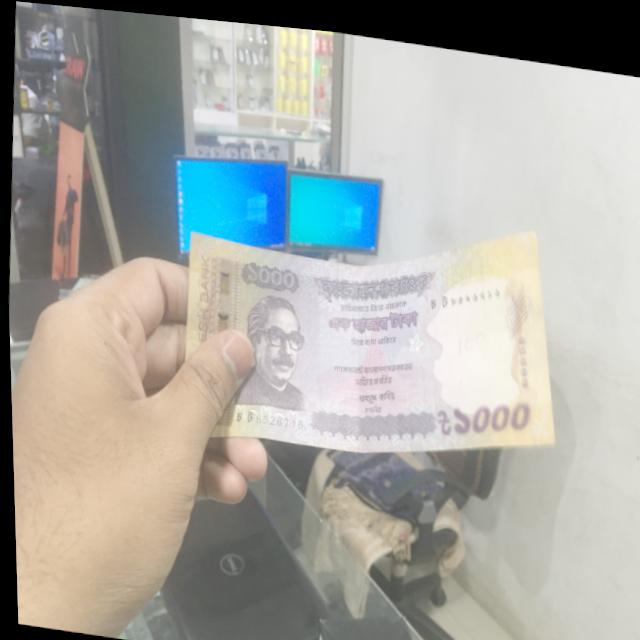Taka: (174, 191, 565, 461)
